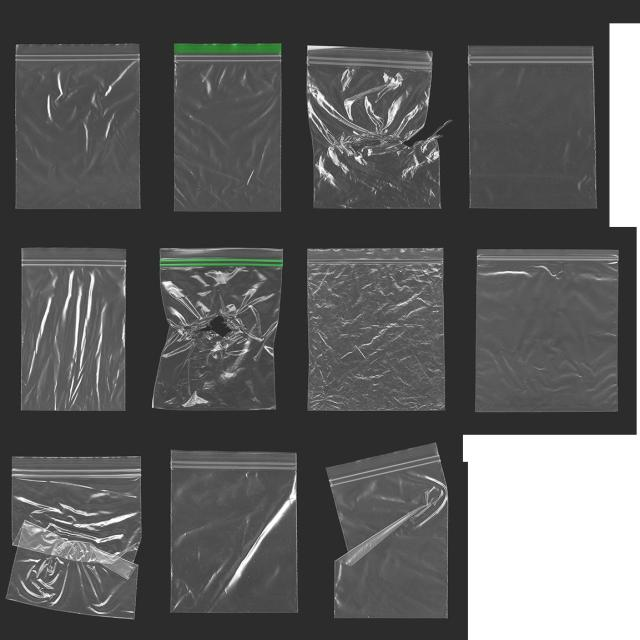Single-layer Plastic: (475, 250, 618, 411), (308, 249, 445, 411), (7, 456, 141, 618), (308, 46, 441, 209), (327, 444, 448, 617), (153, 249, 283, 410), (469, 46, 597, 209), (171, 450, 297, 612), (16, 44, 139, 209), (174, 44, 281, 211), (21, 248, 126, 411)
